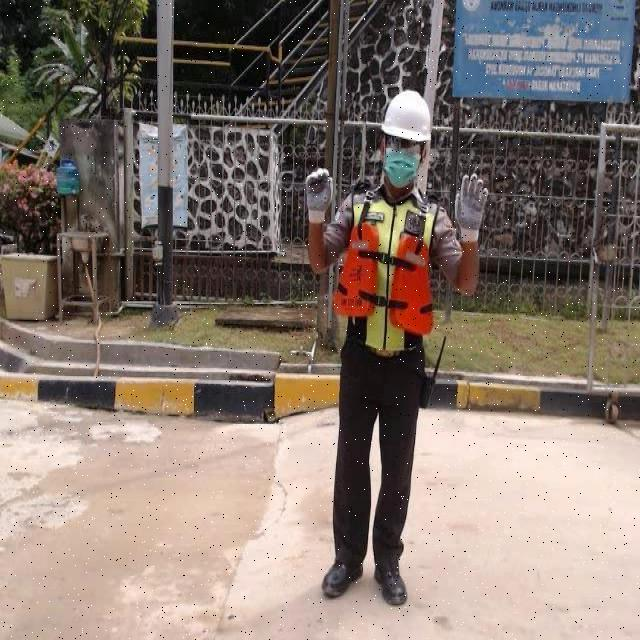Hard_hat: (376, 96, 442, 148)
Vest: (345, 194, 439, 353)
